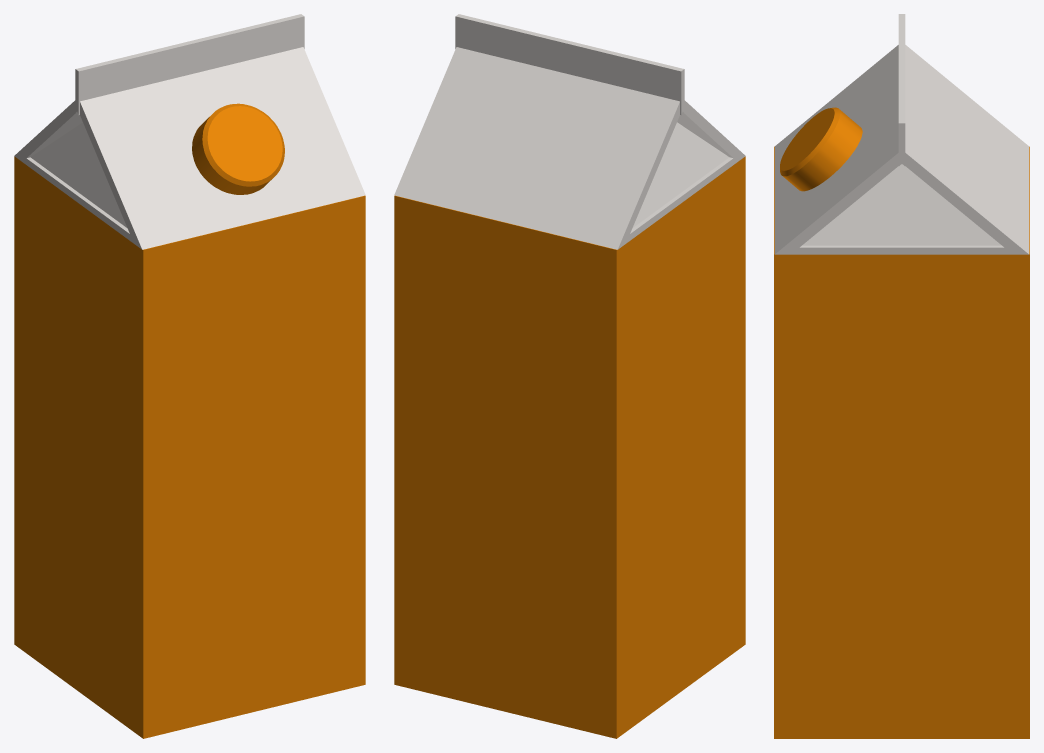
File: juicecarton.fbx
3 renders of one model, left to right at view 1: azimuth 30°, elevation 25°; view 2: azimuth 150°, elevation 25°; view 3: azimuth 270°, elevation 25°, orthographic.
Parts seen in each view (by area): view 1: pCylinder1; view 2: pCylinder1; view 3: pCylinder1.
Boxes of the visible parts, bbox=[...] form: pCylinder1: bbox=[14, 14, 365, 738]; pCylinder1: bbox=[394, 14, 745, 738]; pCylinder1: bbox=[774, 14, 1029, 738].
Bounding box in the file's own units: 4.64 × 12.22 × 4.59.
